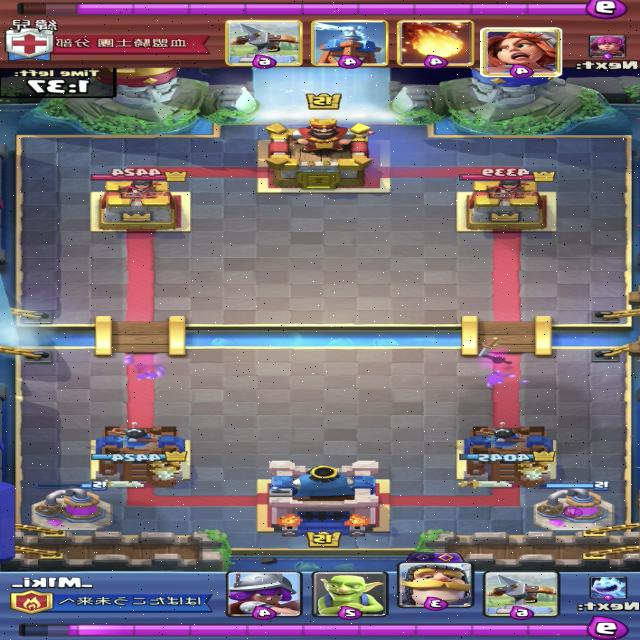Player-ElixirPump: (531, 480, 616, 532), (30, 481, 113, 533)
